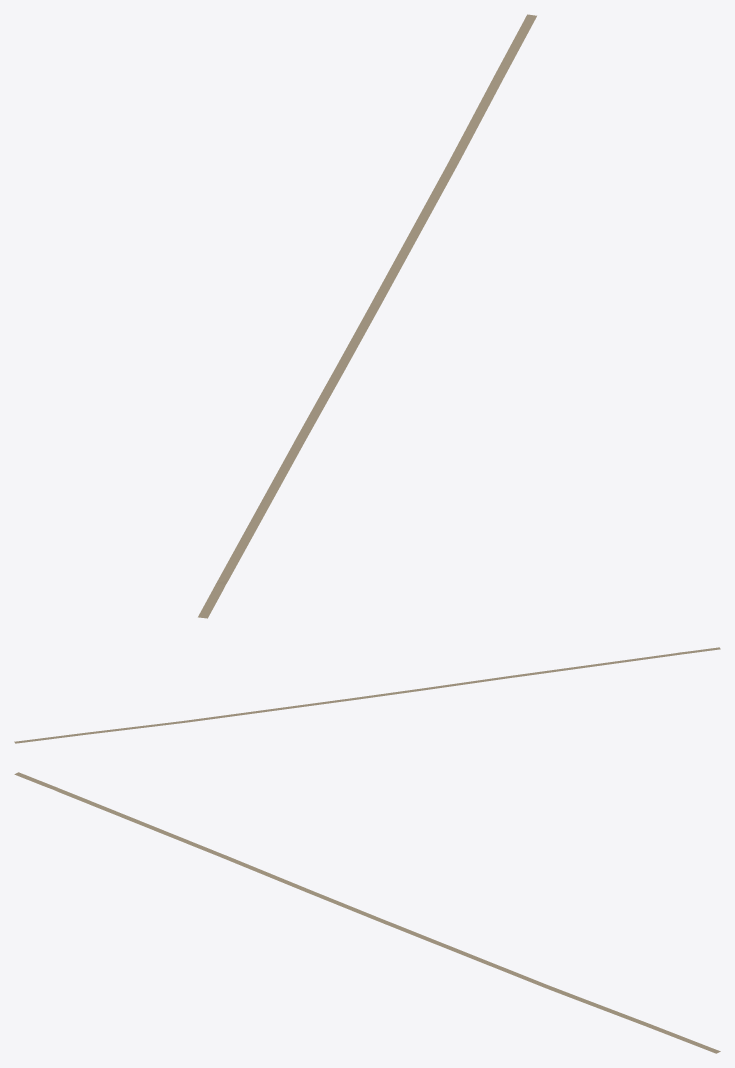
The model's file is farm_-22_-22_track.glb.
The picture shows the model from 3 angles, top to bottom: view 1: azimuth 30°, elevation 25°; view 2: azimuth 150°, elevation 25°; view 3: azimuth 270°, elevation 25°; orthographic projection. The views are drawn at different scales.
Parts seen in each view (by area): view 1: geometry_0; view 2: geometry_0; view 3: geometry_0.
Boxes of the visible parts, x1,y1,x2,y2 form: geometry_0: (198,14,536,618); geometry_0: (14,647,720,743); geometry_0: (14,772,720,1053).
Bounding box in the file's own units: 322 × 2.79 × 346.
